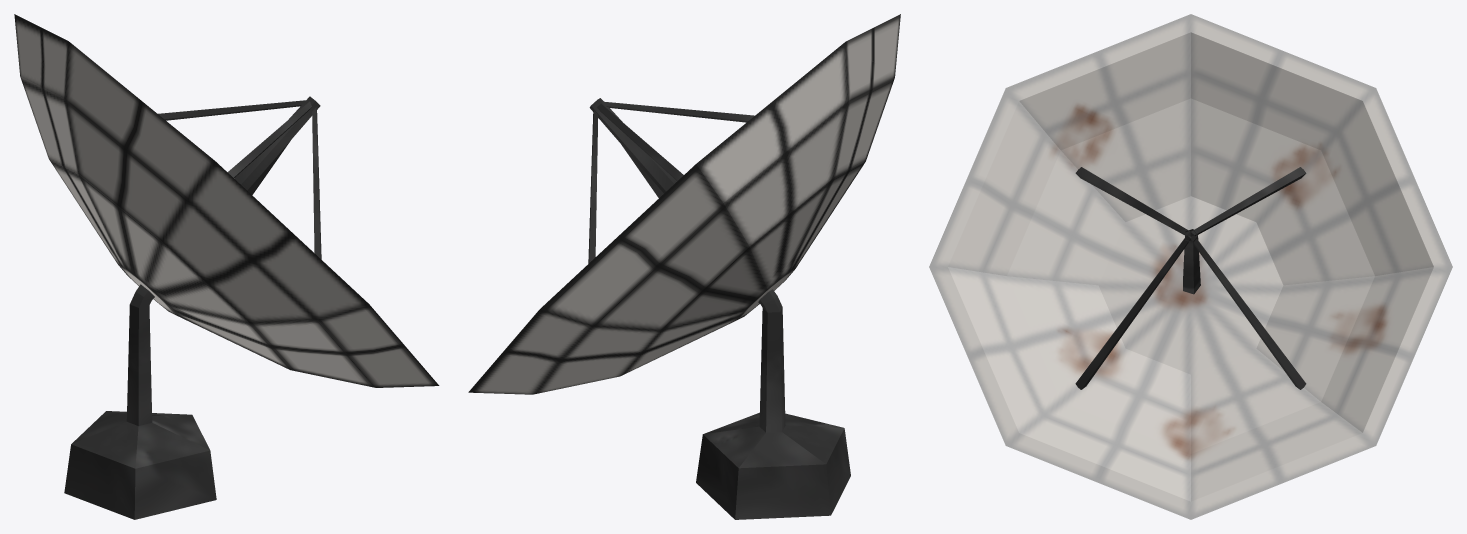
File: RadarDish.fbx
3 views of the same model, side by side, from view 1: azimuth 30°, elevation 25°; view 2: azimuth 150°, elevation 25°; view 3: azimuth 270°, elevation 25° (orthographic). The views are drawn at different scales.
Visible parts, largest first — view 1: Cylinder.001; view 2: Cylinder.001; view 3: Cylinder.001.
Boxes of the visible parts, x1=… form: Cylinder.001: x1=14, y1=14, x2=439, y2=519; Cylinder.001: x1=468, y1=14, x2=900, y2=519; Cylinder.001: x1=929, y1=14, x2=1452, y2=519.
Size of the model in its own units: 831 by 1142 by 1280.
Materials: 1 (1 with a texture image).
